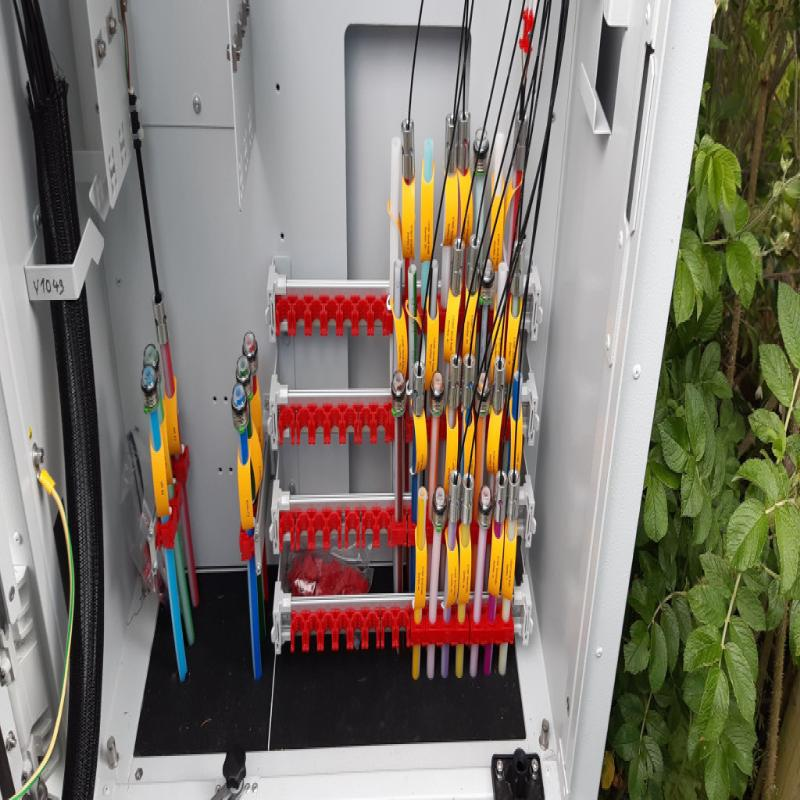NT-Gehause: (1, 0, 699, 791)
